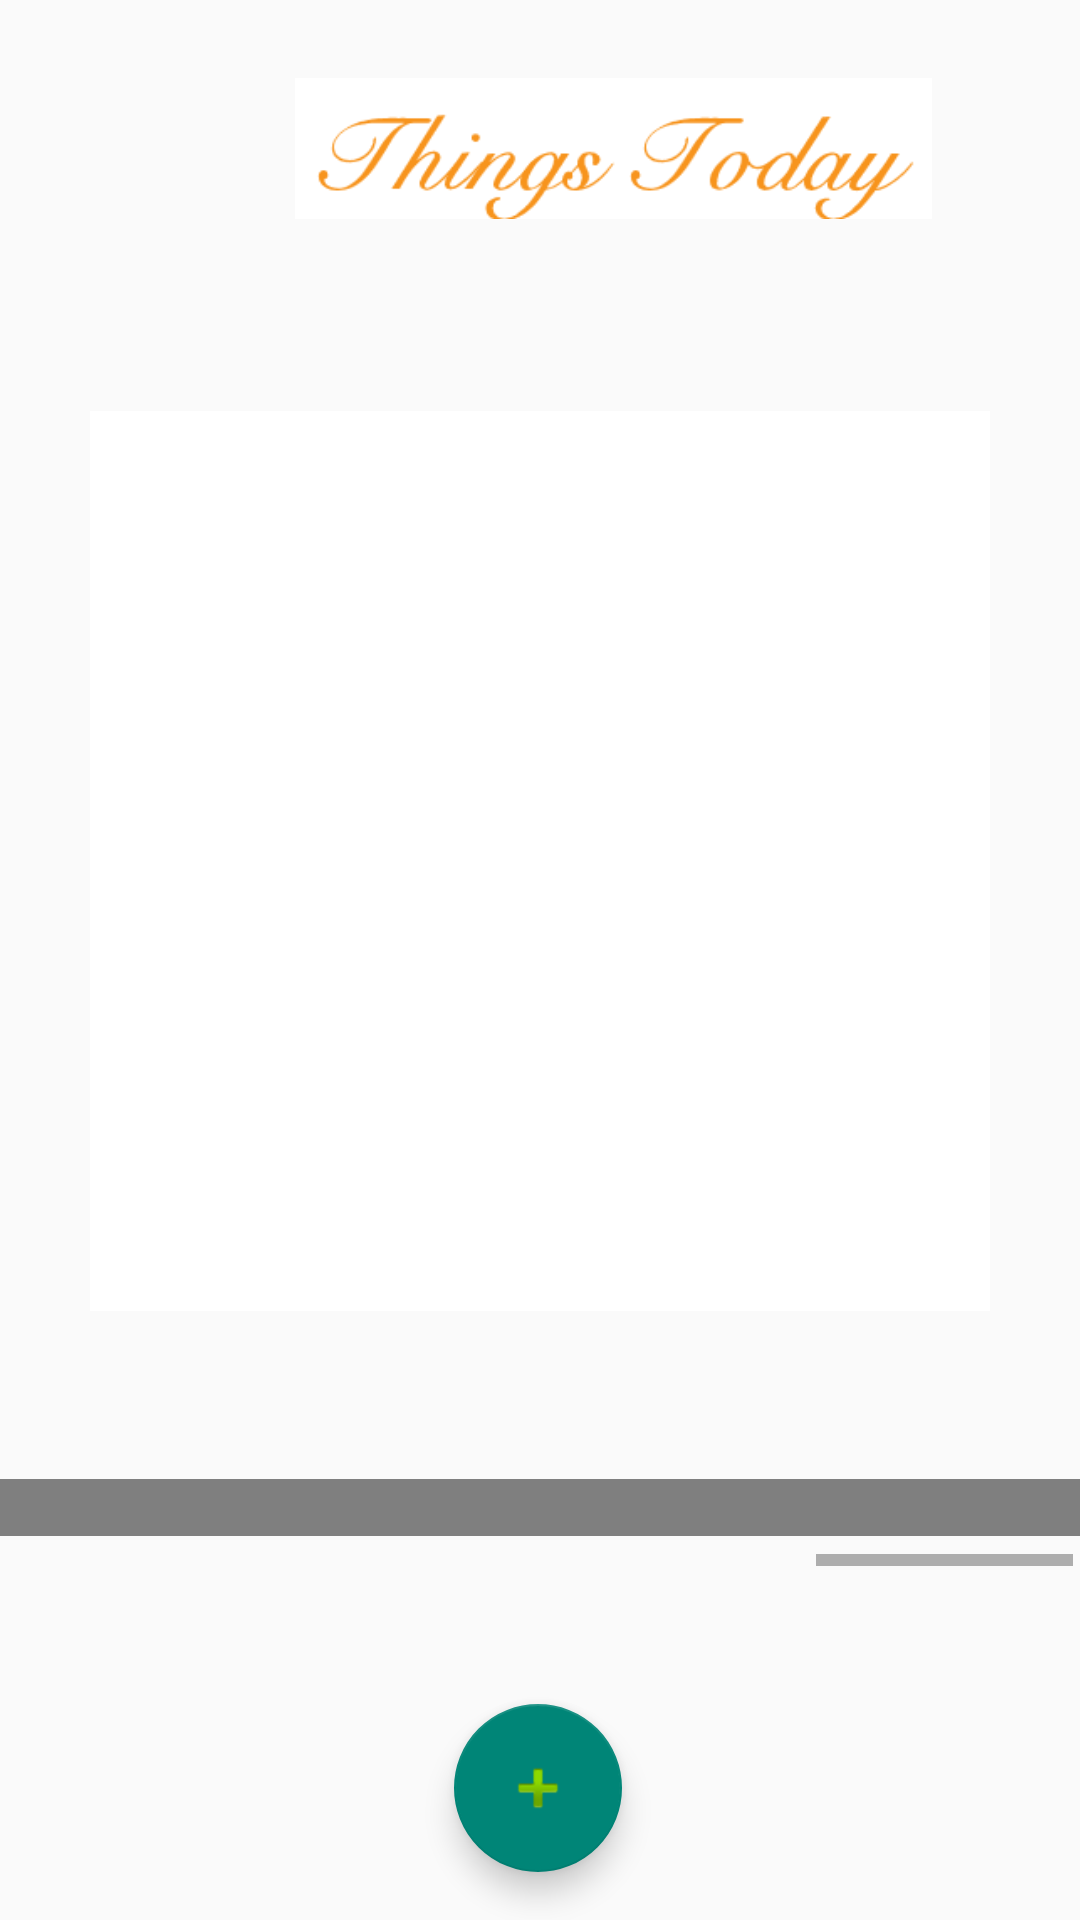

Locate icon controls on the screen. Image size 1080 × 1920, boxes as detection(x1, y1, x2, y2).
Add Thing Jump: detection(454, 1704, 622, 1872)
